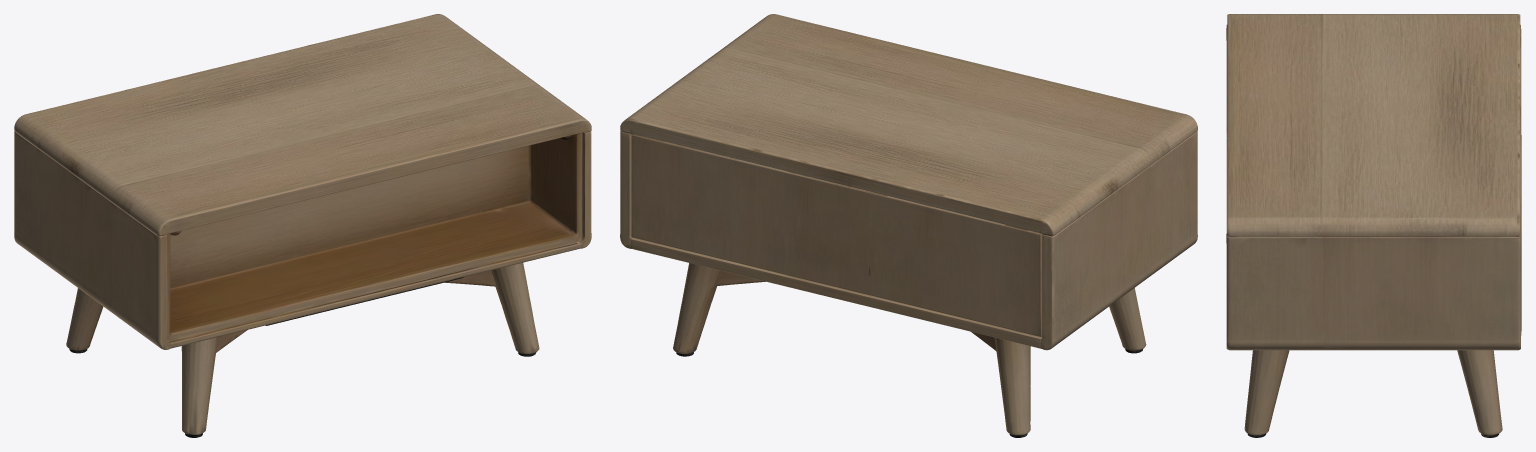
The model's file is coffee-real-castlery-seb-lift-top-small-closed.glb.
The picture shows the model from 3 angles, left to right: view 1: azimuth 30°, elevation 25°; view 2: azimuth 150°, elevation 25°; view 3: azimuth 270°, elevation 25°; orthographic projection.
Visible parts, largest first — view 1: node_0; view 2: node_0; view 3: node_0.
Boxes of the visible parts, bbox=[...] form: node_0: bbox=[14, 14, 591, 437]; node_0: bbox=[620, 14, 1197, 437]; node_0: bbox=[1226, 14, 1521, 437].
Size of the model in its own units: 0.9635 by 0.4973 by 0.562.
Materials: 1 (1 with a texture image).
